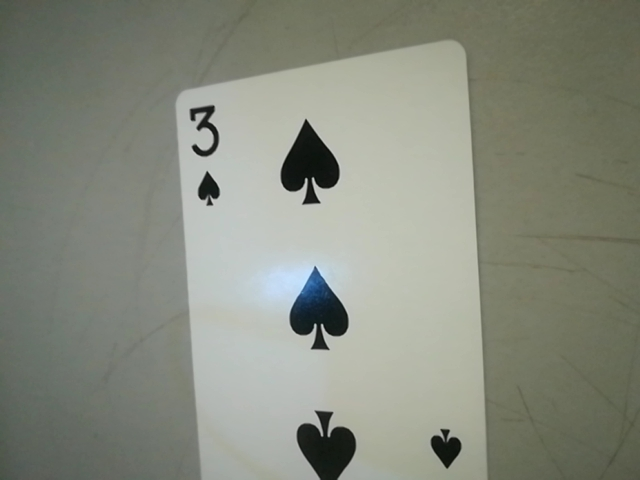ht 3: (174, 94, 234, 213)
